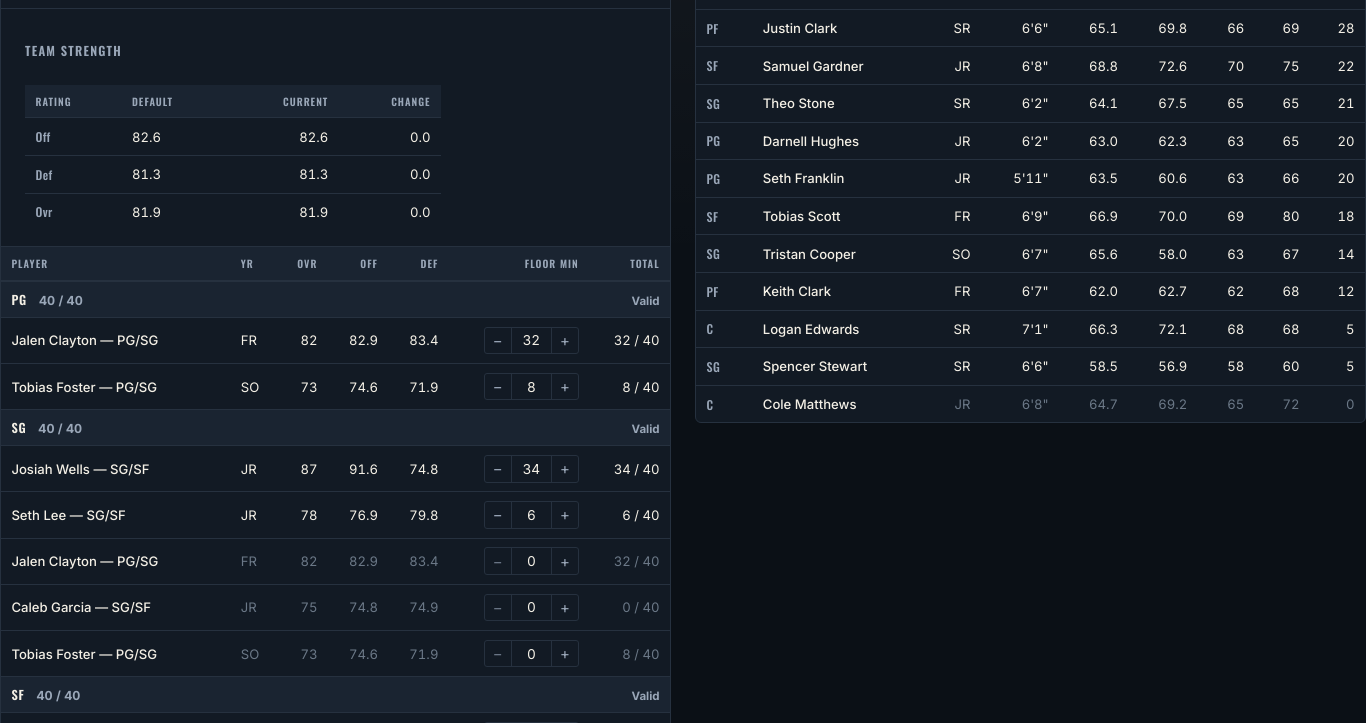
Rotation editor › updates Team Strength from the real engine for a legal edit, and marks it pending while invalid
(page scrolled)
Replace the text in the number field named "PG floor minutes for Jalen Clayton" with "30". click: (531, 340)
box: x1=510 y1=328 x2=552 y2=353
(page scrolled)
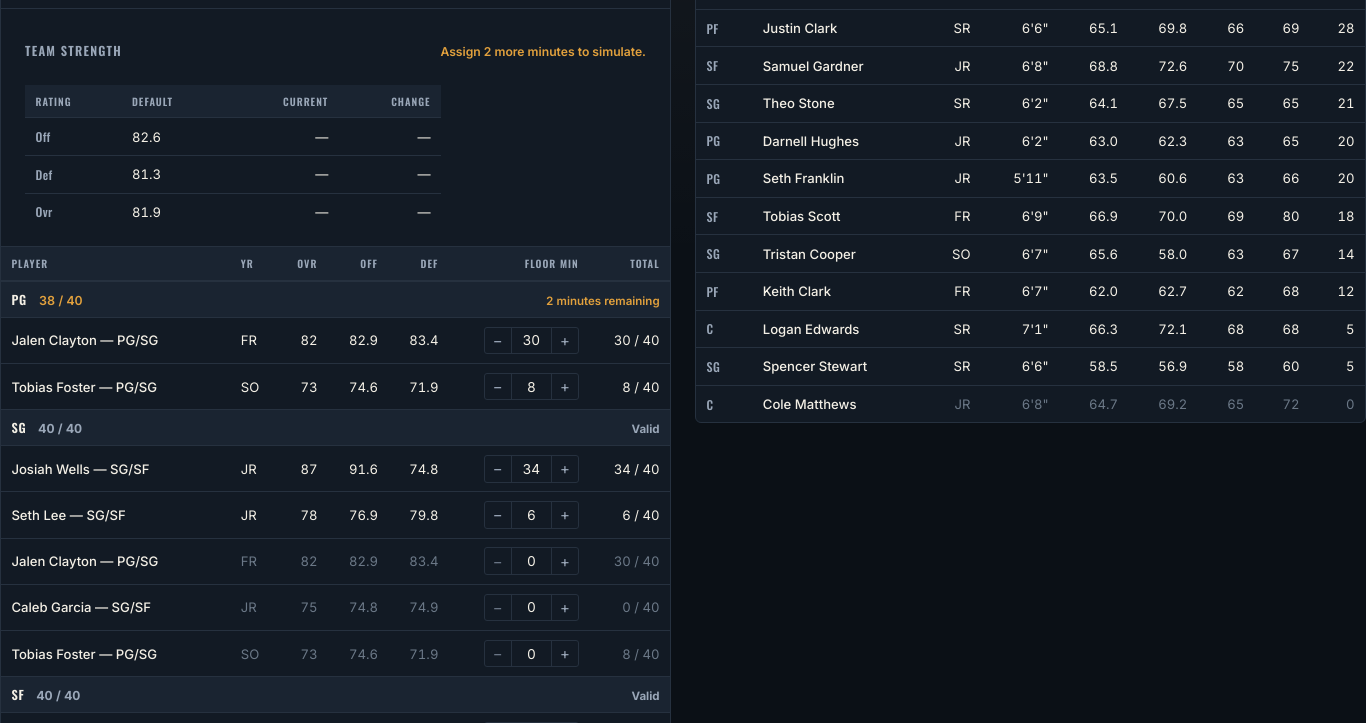
Replace the text in the number field named "PG floor minutes for Tobias Foster" with "10". click: (531, 387)
box: x1=510 y1=374 x2=552 y2=399
(page scrolled)
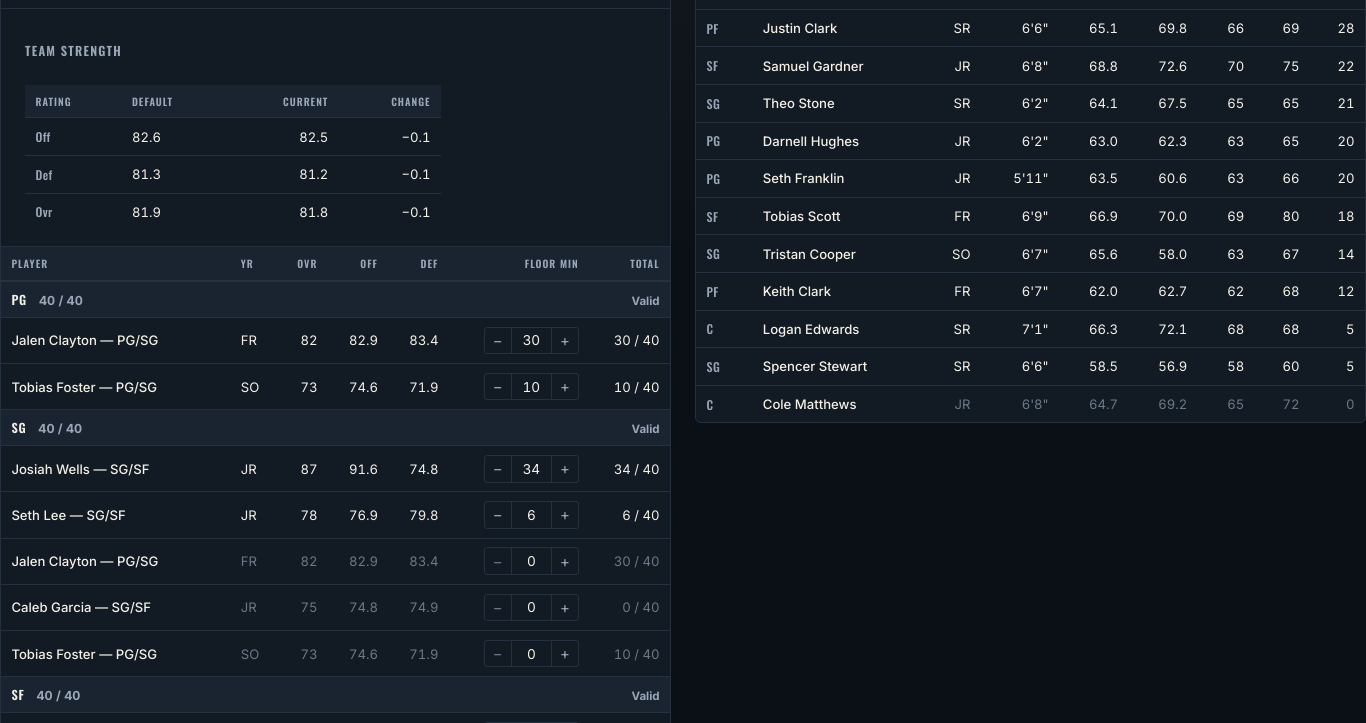
Replace the text in the number field named "PG floor minutes for Jalen Clayton" with "52". click: (531, 340)
box: x1=510 y1=328 x2=552 y2=353
(page scrolled)
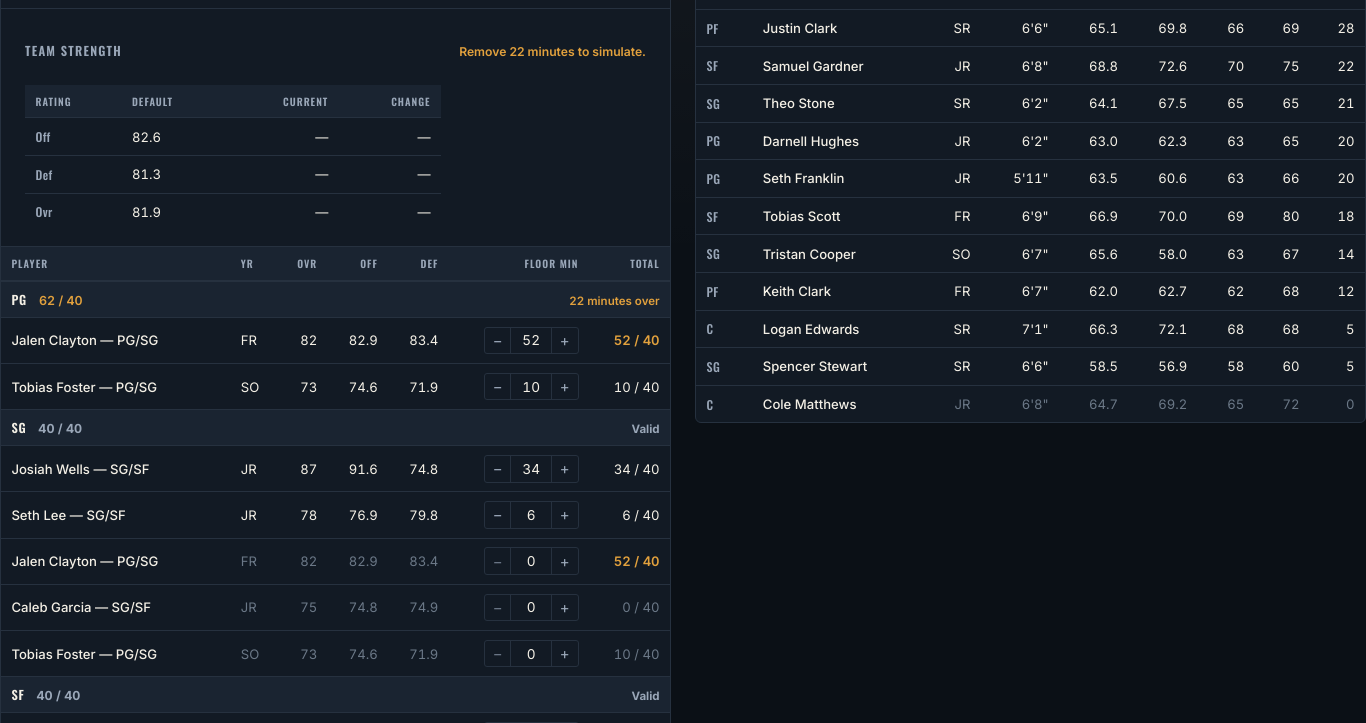
Expected: the 1st text "—" is shown, x1=226 y1=118 x2=339 y2=156
